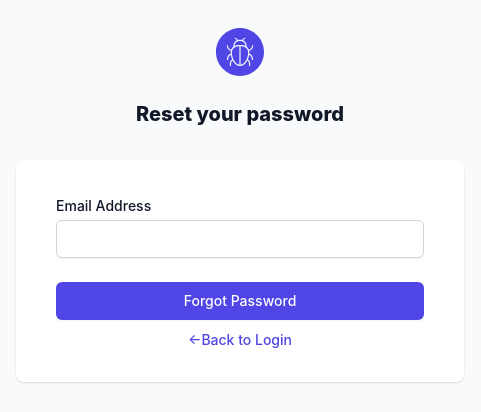
Test case: Forgot Password › verifies blank field validation of forgot password page
What coordinates should you click on to do the following:
click the button with id "forgot-password"
I would click on:
 (240, 301)
Its box is [56,282,424,320].
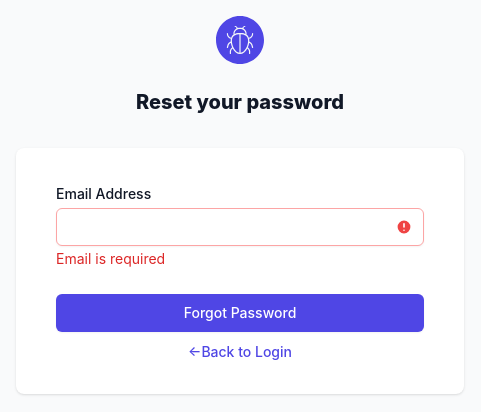
Expected: the text "Email is required" is shown, [56,250,165,267]
